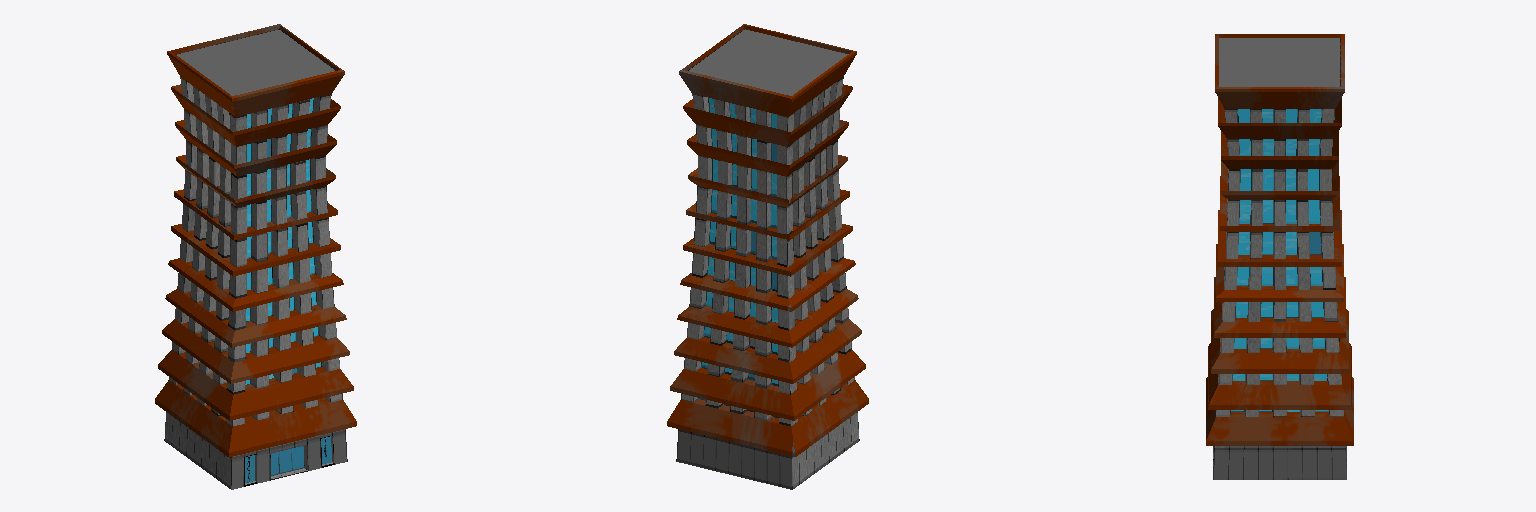
The picture shows the model from 3 angles: view 1: azimuth 30°, elevation 25°; view 2: azimuth 150°, elevation 25°; view 3: azimuth 270°, elevation 25°; orthographic projection.
Parts seen in each view (by area): view 1: Cube; view 2: Cube; view 3: Cube.
Boxes of the visible parts, x1=… form: Cube: x1=155, y1=24, x2=356, y2=489; Cube: x1=667, y1=24, x2=868, y2=489; Cube: x1=1206, y1=34, x2=1353, y2=479.
Size of the model in its own units: 10.94 by 31.75 by 10.94.
Materials: 1 (1 with a texture image).